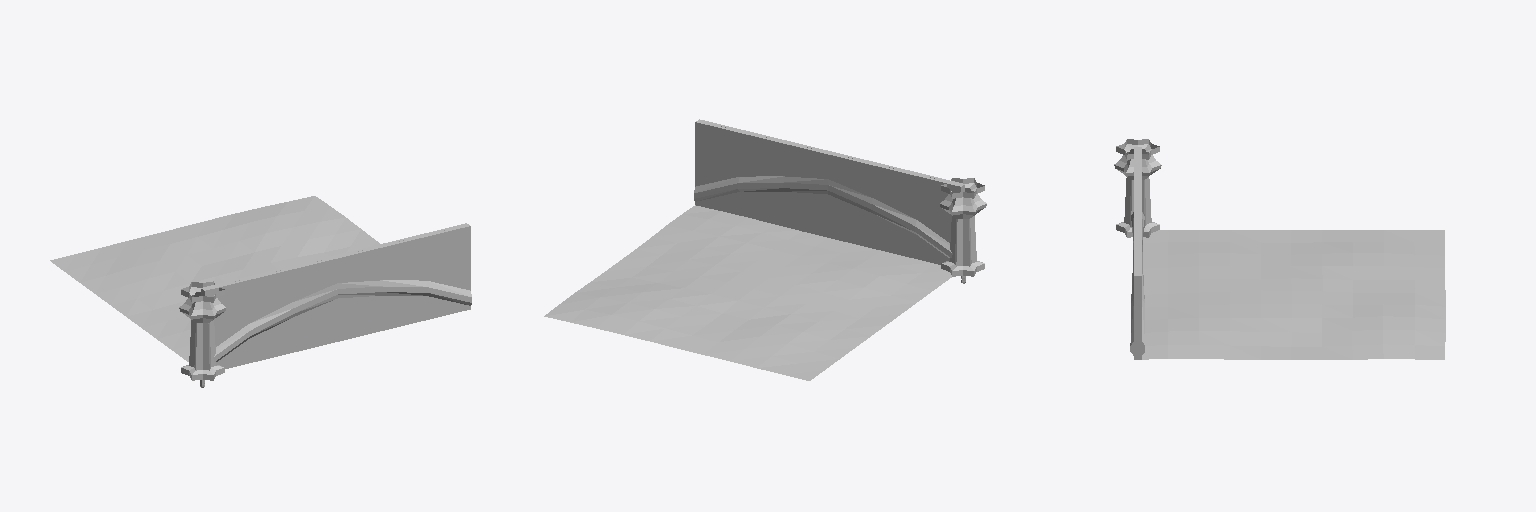
Rendered from Asseties.obj.
3 views of the same model, side by side, from view 1: azimuth 30°, elevation 25°; view 2: azimuth 150°, elevation 25°; view 3: azimuth 270°, elevation 25° (orthographic).
Visible parts, largest first — view 1: Cube, Grid, Cylinder; view 2: Grid, Cube, Cylinder; view 3: Grid, Cube, Cylinder.
Part boxes in pixels (x1,y1,x2,y2): Cube: (201,223,471,368); Grid: (50,196,379,361); Cylinder: (179,281,225,380); Grid: (544,205,951,380); Cube: (694,119,964,264); Cylinder: (940,178,986,276); Grid: (1142,230,1445,359); Cube: (1130,147,1144,359); Cylinder: (1114,139,1161,237).
Bounding box in the file's own units: 10.69 × 3.51 × 10.8.